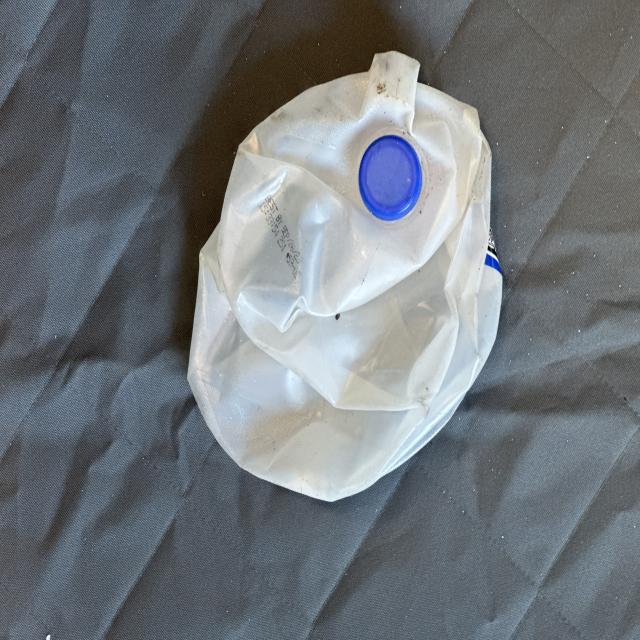milk-jug: (188, 49, 504, 499)
